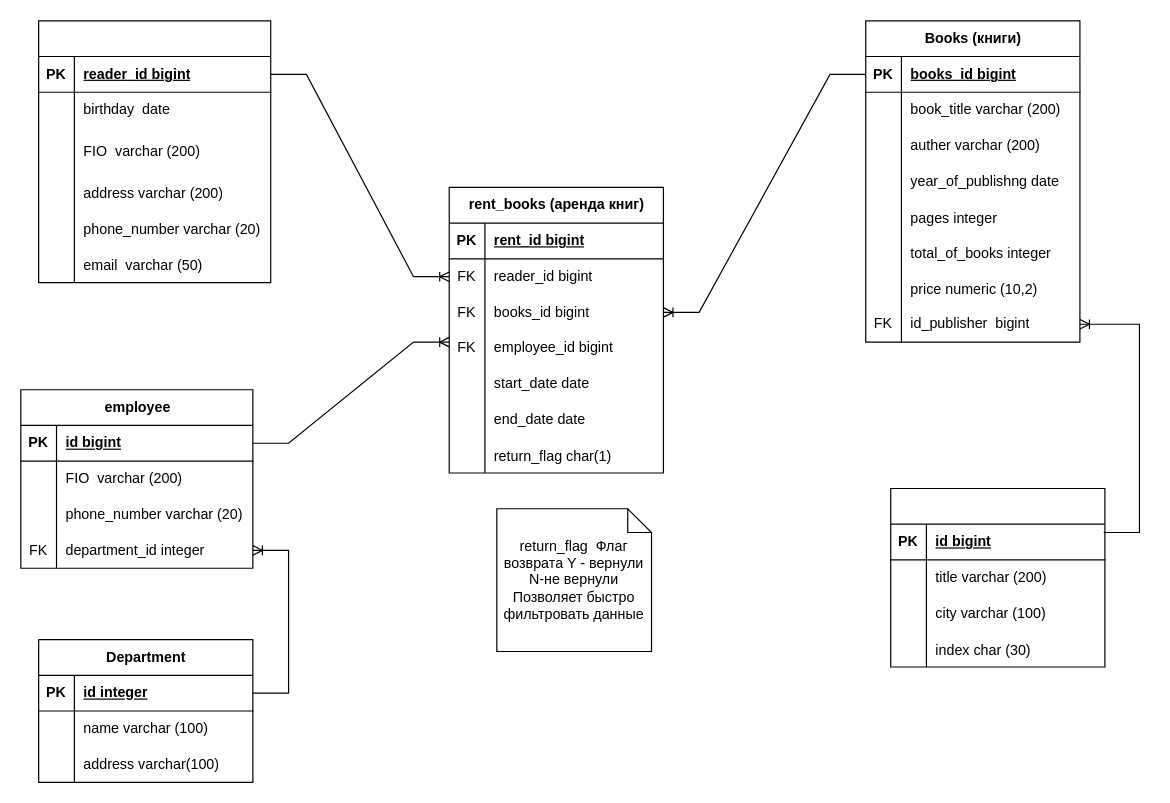
This 1170x803 diagram has some shape labels left out. Here are the shapes that lost their labels. From the top down, the box of each, then its label:
(37, 20, 271, 283): readers
(890, 487, 1105, 667): Publishers (Издательство)
